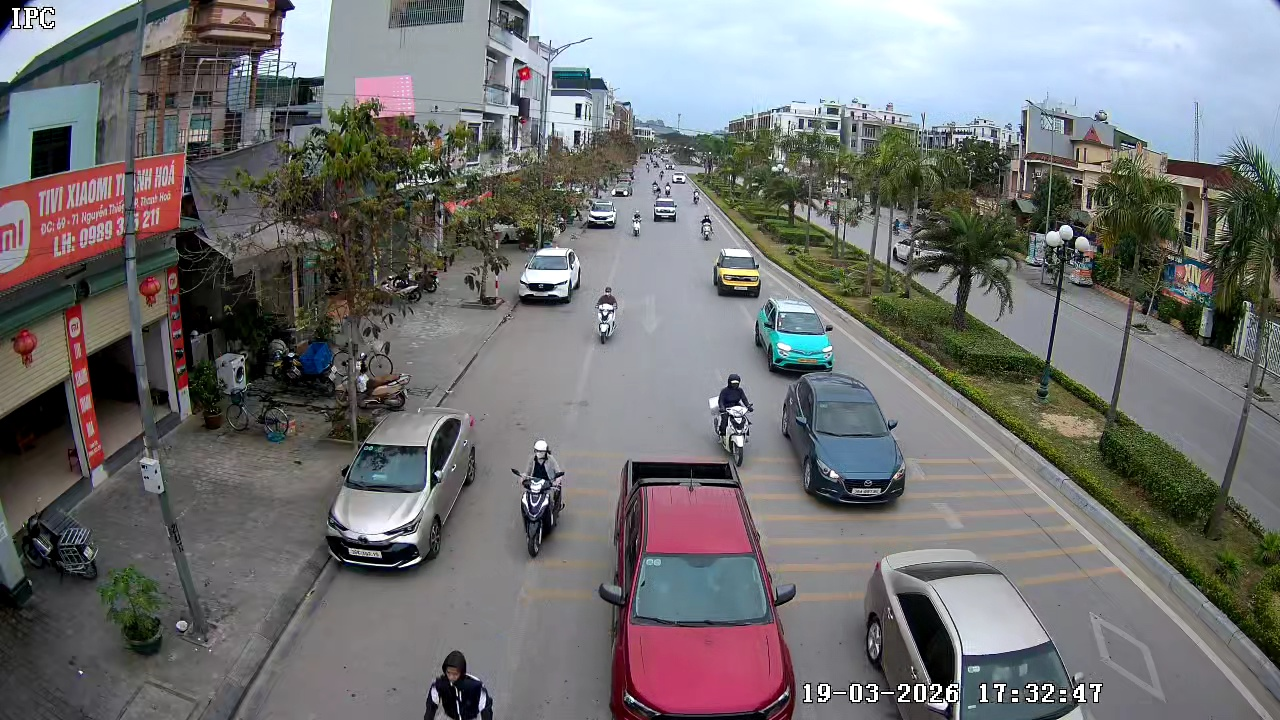car: (597, 450, 804, 719), (858, 547, 1103, 719), (325, 406, 478, 571), (780, 372, 907, 505), (754, 297, 835, 373), (518, 246, 583, 304), (712, 244, 762, 298), (583, 199, 618, 229), (653, 194, 677, 223)
exception: (422, 648, 496, 719)
motorbike: (511, 437, 568, 558), (710, 371, 756, 467), (354, 341, 411, 413), (593, 284, 621, 344), (698, 211, 714, 241), (629, 208, 643, 238)
